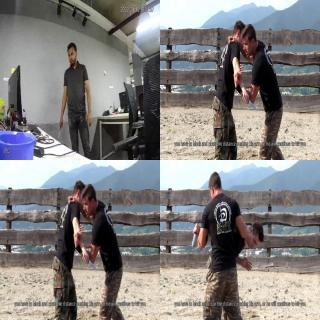knife: (240, 91, 260, 113), (81, 251, 99, 273), (190, 222, 198, 250), (56, 121, 64, 139)
